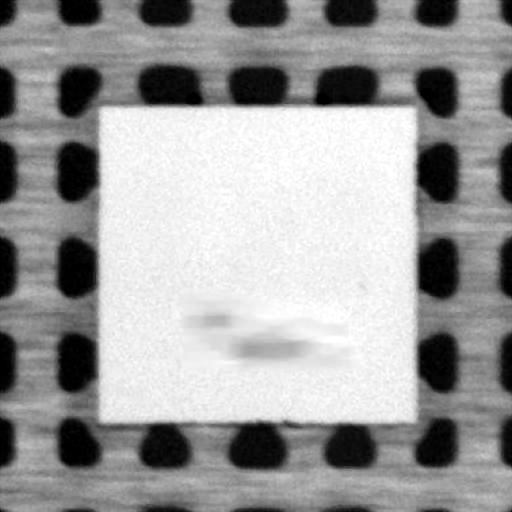DIE_INK: (139, 261, 401, 397)
